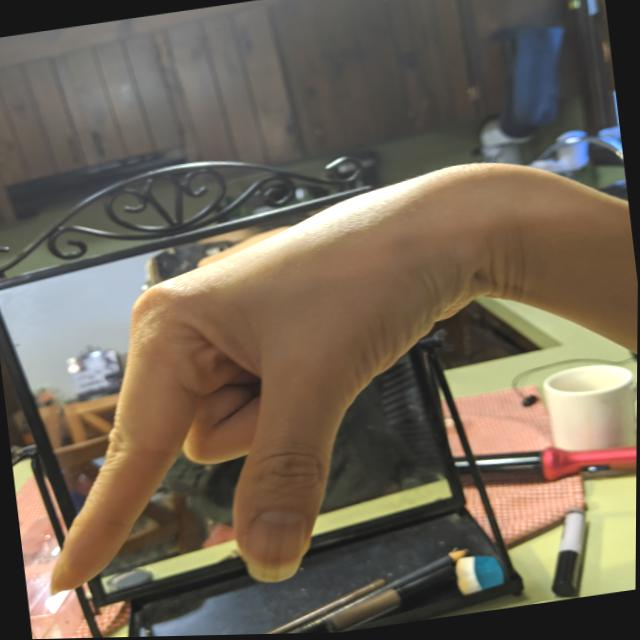Q: (0, 156, 527, 622)
